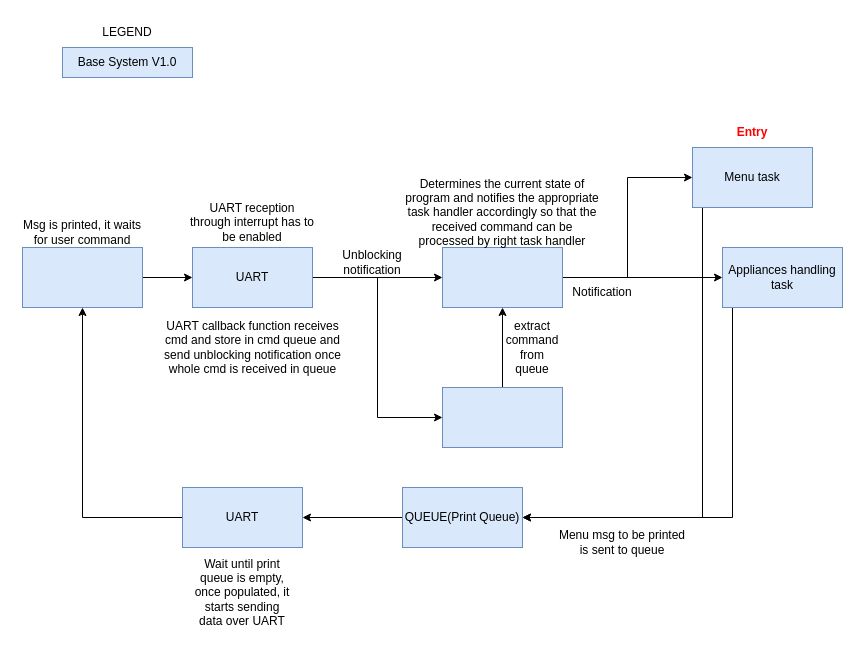
The diagram is 860 pixels wide and 645 high, and some of its shapes have lost their labels. Each missing label, with the centre of its shape:
"command handling task" goes at pixel 502 277.
"QUEUE(Input Queue)" goes at pixel 502 417.
"Serial Terminal" goes at pixel 82 277.
